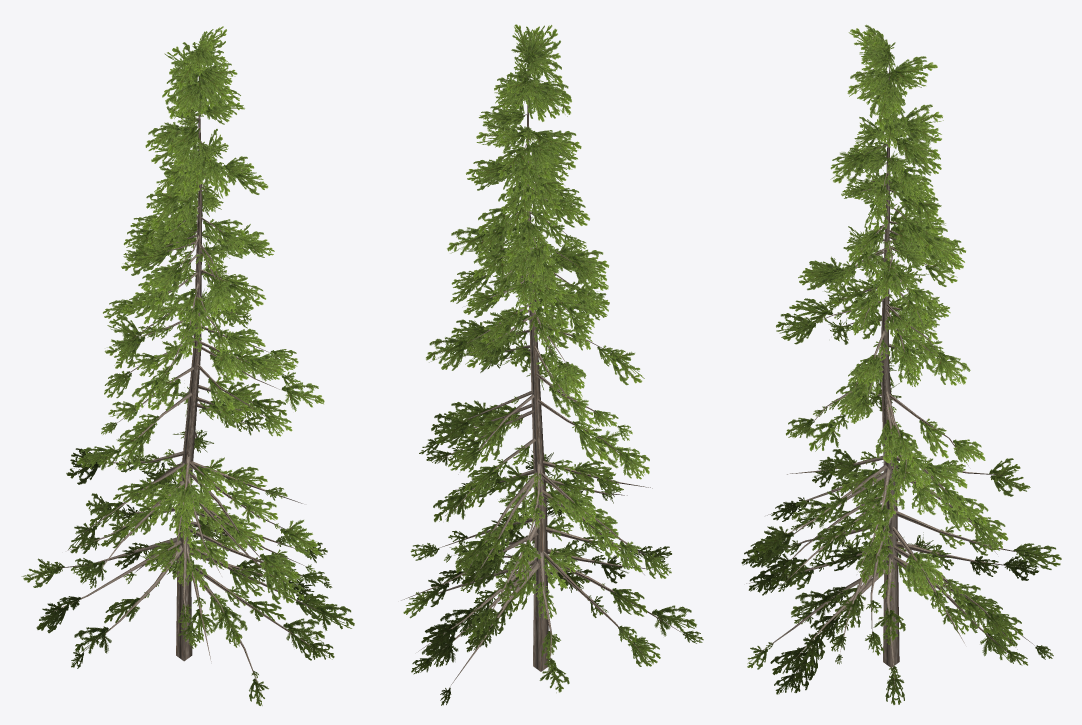
File: pine_small.glb
3 renders of one model, left to right at view 1: azimuth 30°, elevation 25°; view 2: azimuth 150°, elevation 25°; view 3: azimuth 270°, elevation 25°, orthographic. The views are drawn at different scales.
Visible parts, largest first — view 1: leaves, trunk; view 2: leaves, trunk; view 3: leaves, trunk.
Boxes of the visible parts, left/top/right/bottom form: leaves: left=21, top=26, right=354, bottom=705; trunk: left=43, top=76, right=325, bottom=695; leaves: left=403, top=24, right=703, bottom=705; trunk: left=401, top=69, right=684, bottom=687; leaves: left=741, top=24, right=1061, bottom=704; trunk: left=746, top=58, right=1034, bottom=690.
Size of the model in its own units: 2.76 by 6 by 2.74.
2 materials, 2 textured.
